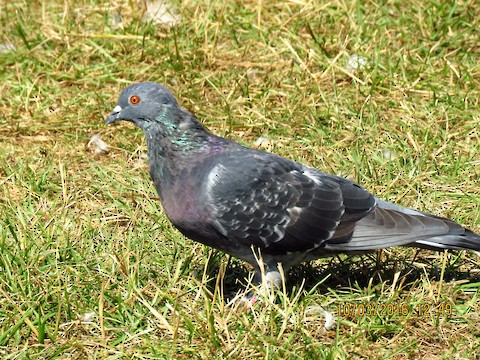pigeon: (105, 80, 468, 316)
